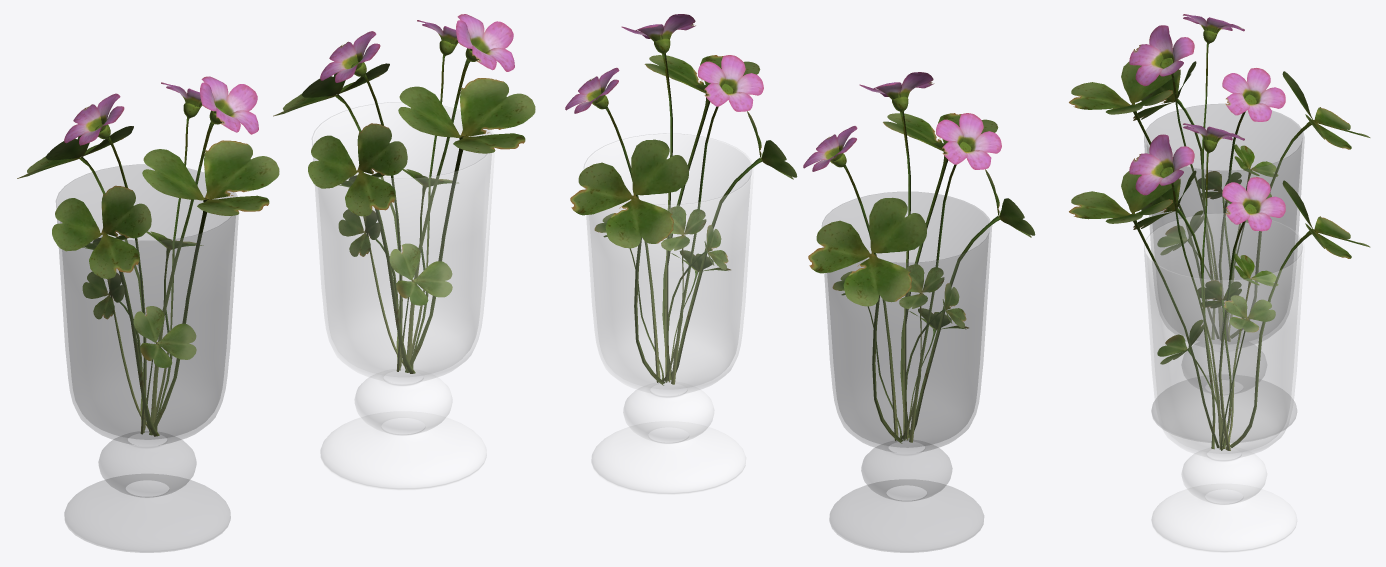
Rendered from GlassVaseFlowers.glb.
3 views of the same model, side by side, from view 1: azimuth 30°, elevation 25°; view 2: azimuth 150°, elevation 25°; view 3: azimuth 270°, elevation 25° (orthographic). The views are drawn at different scales.
Visible parts, largest first — view 1: Flowers1, GlassAlpha, GlassTransmission; view 2: Flowers1, GlassAlpha, GlassTransmission; view 3: GlassTransmission, Flowers1, GlassAlpha.
Part boxes in pixels (x1=…): Flowers1: x1=17, y1=14, x2=535, y2=436; GlassAlpha: x1=56, y1=164, x2=238, y2=552; GlassTransmission: x1=312, y1=102, x2=494, y2=490; Flowers1: x1=565, y1=14, x2=1035, y2=443; GlassAlpha: x1=822, y1=192, x2=991, y2=552; GlassTransmission: x1=584, y1=133, x2=753, y2=494; GlassTransmission: x1=1144, y1=213, x2=1304, y2=552; Flowers1: x1=1069, y1=14, x2=1370, y2=450; GlassAlpha: x1=1144, y1=104, x2=1304, y2=442.
Bounding box in the file's own units: 0.2173 × 0.2032 × 0.1425.
Materials: 3 (1 with a texture image).
